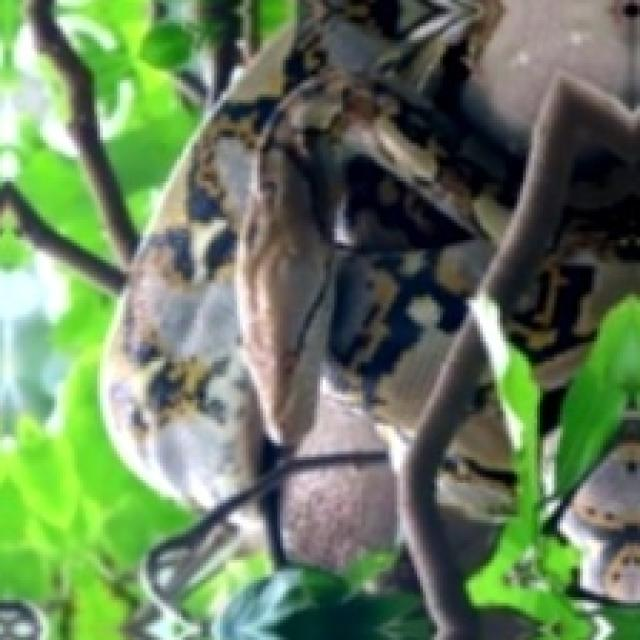reticulated python: (0, 0, 525, 507), (511, 151, 640, 357), (559, 411, 640, 606), (288, 464, 394, 568), (436, 395, 514, 524), (296, 378, 384, 456)
